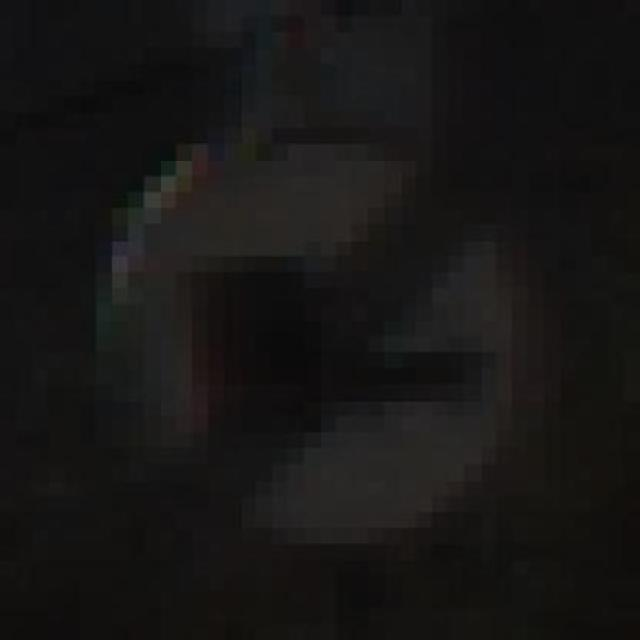Overtaking by trucks is prohibited: (49, 96, 576, 576)
